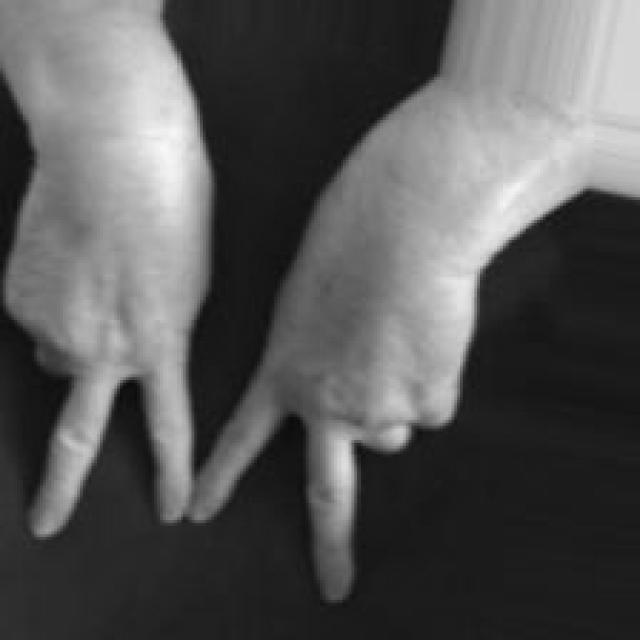M: (2, 145, 487, 609)
